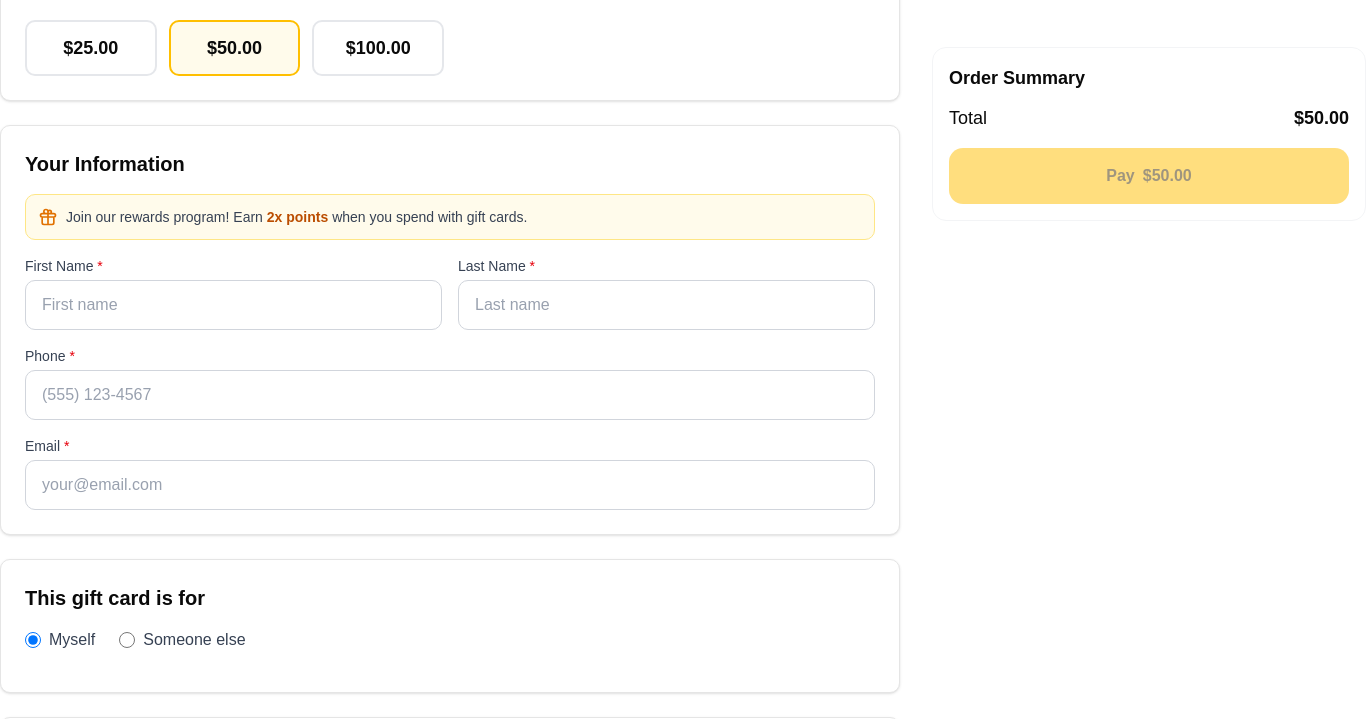
Test case: GiftcardPageClient › recipient information › should show character count for message
# Click "Someone else" radio to show recipient fields
Click the radio button labelled "Someone else".
click(127, 640)  # box [119,632,135,648]
(page scrolled)
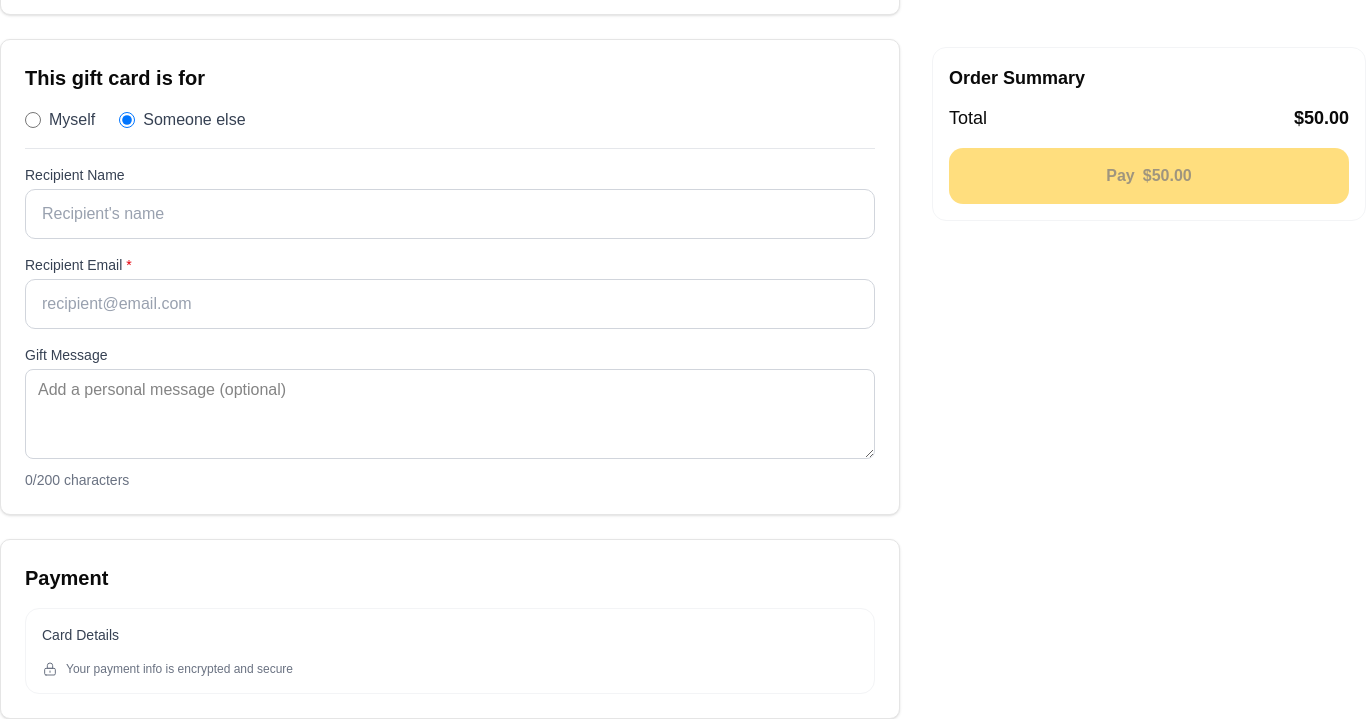
Result: the text "0/200 characters" is shown at [25,472,129,488]
Type "Happy Birthday!" into the text box with placeholder "Add a personal message (optional)".
click(450, 414); type("Happy Birthday!")  # box [25,369,875,459]
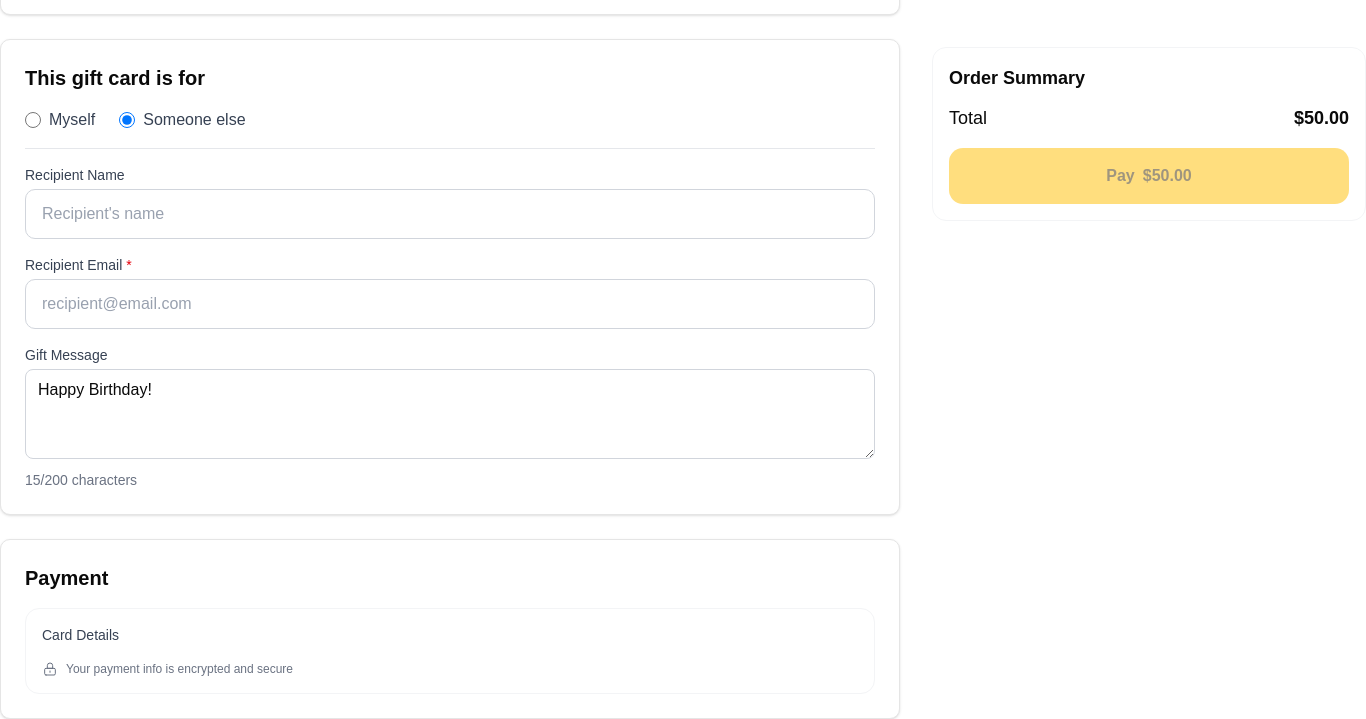
Result: the text "15/200 characters" is shown at [25,472,137,488]
